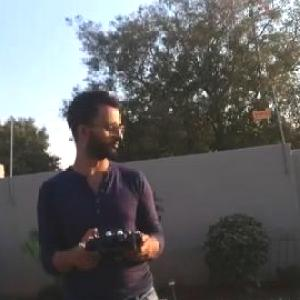follow: (39, 83, 175, 299)
